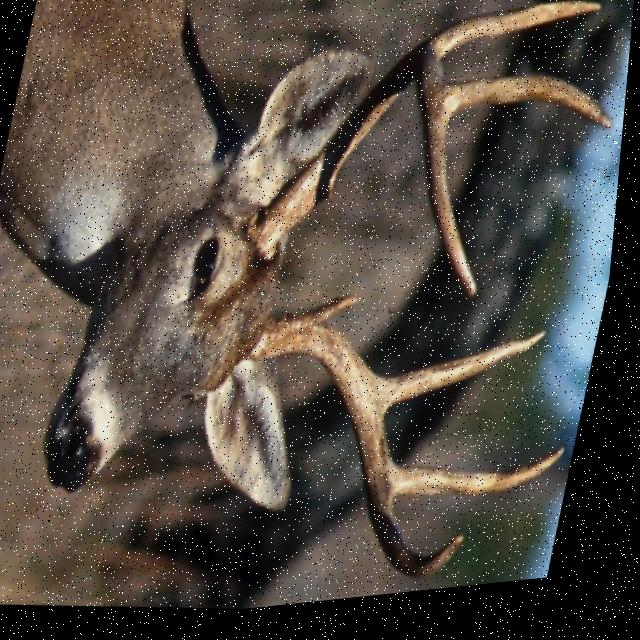L-F: (254, 52, 484, 308)
L-G2: (428, 11, 603, 67)
L-G3: (454, 86, 617, 142)
R-F: (255, 326, 476, 588)
R-G1: (309, 303, 366, 334)
R-G2: (388, 341, 554, 416)
R-G3: (401, 458, 574, 508)
